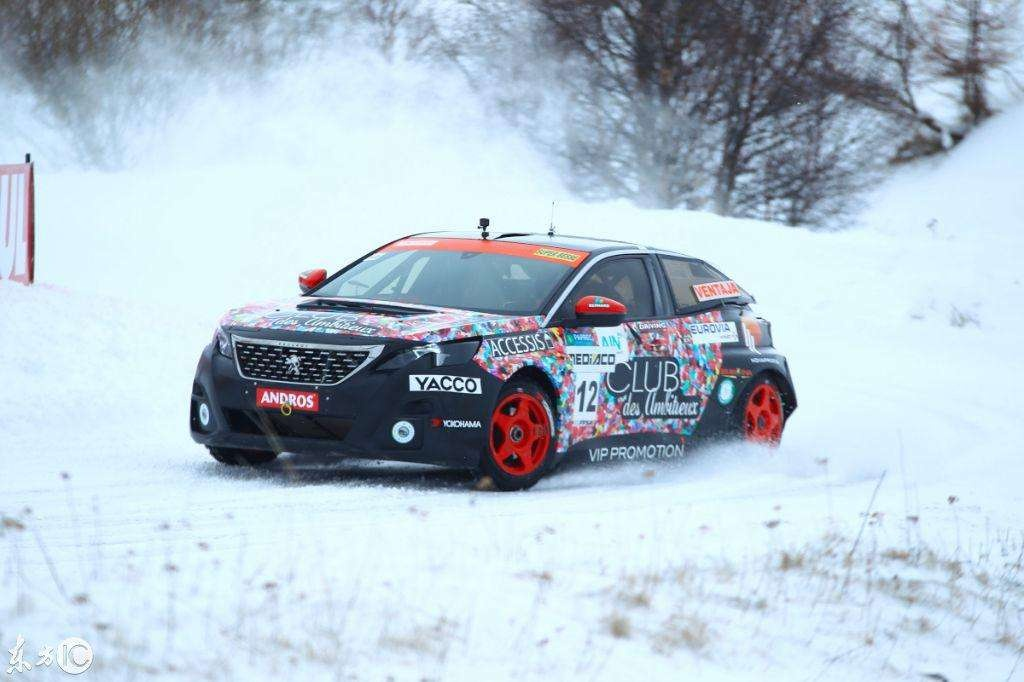racing car: (178, 198, 812, 511)
